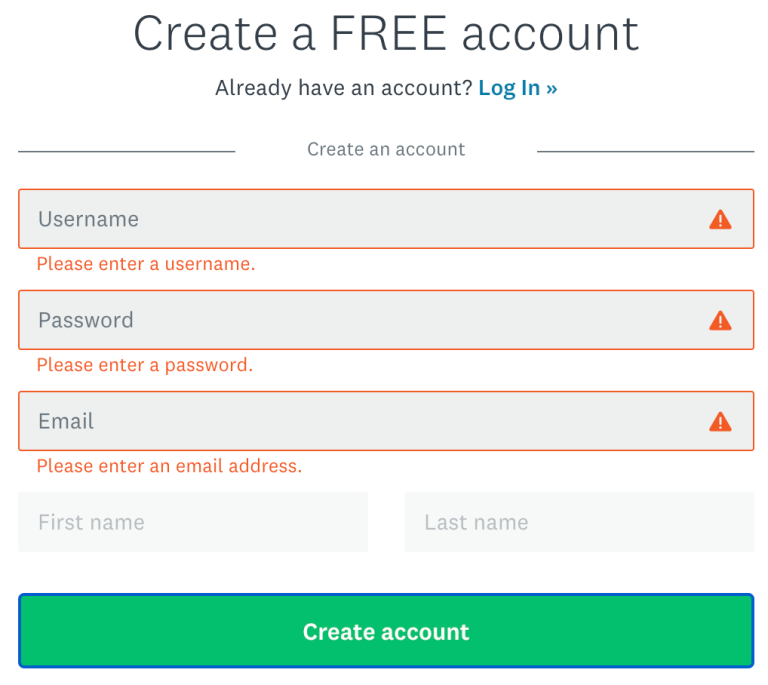error_field: (16, 187, 755, 251), (17, 289, 755, 351), (18, 389, 755, 451), (38, 456, 304, 476), (36, 253, 256, 274), (36, 355, 254, 373)
